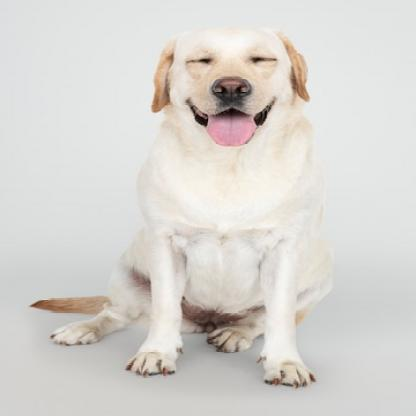dog: (31, 28, 316, 391)
